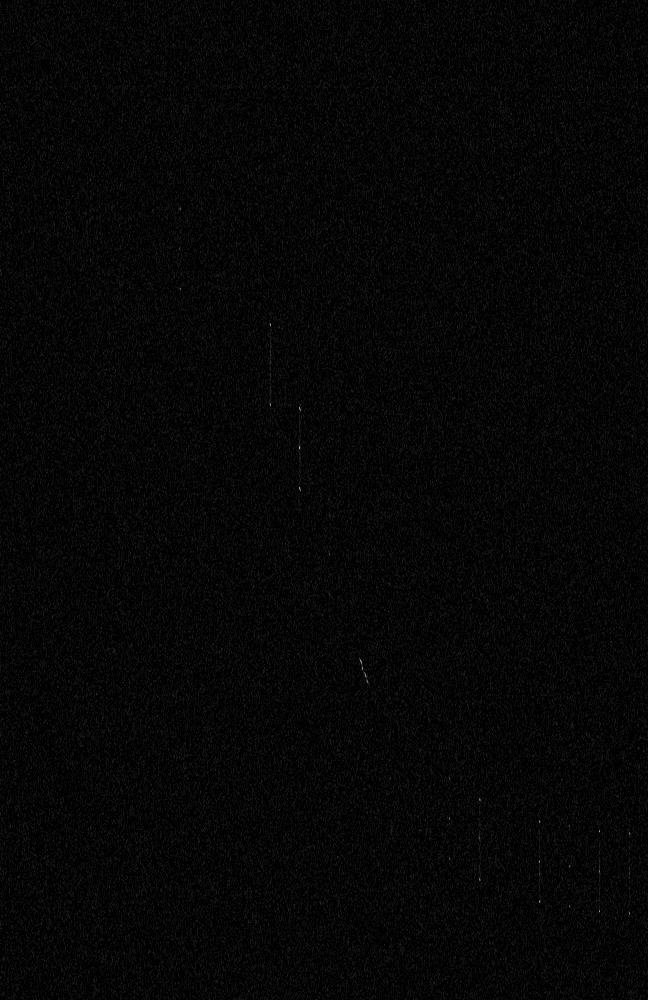signal: (0, 0, 647, 999)
